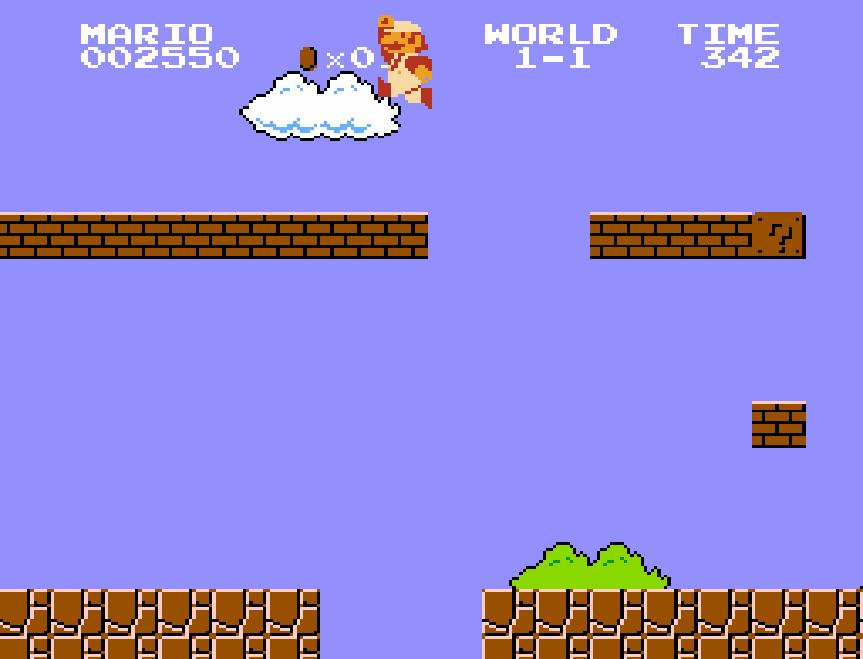fire_mario: (376, 11, 434, 109)
